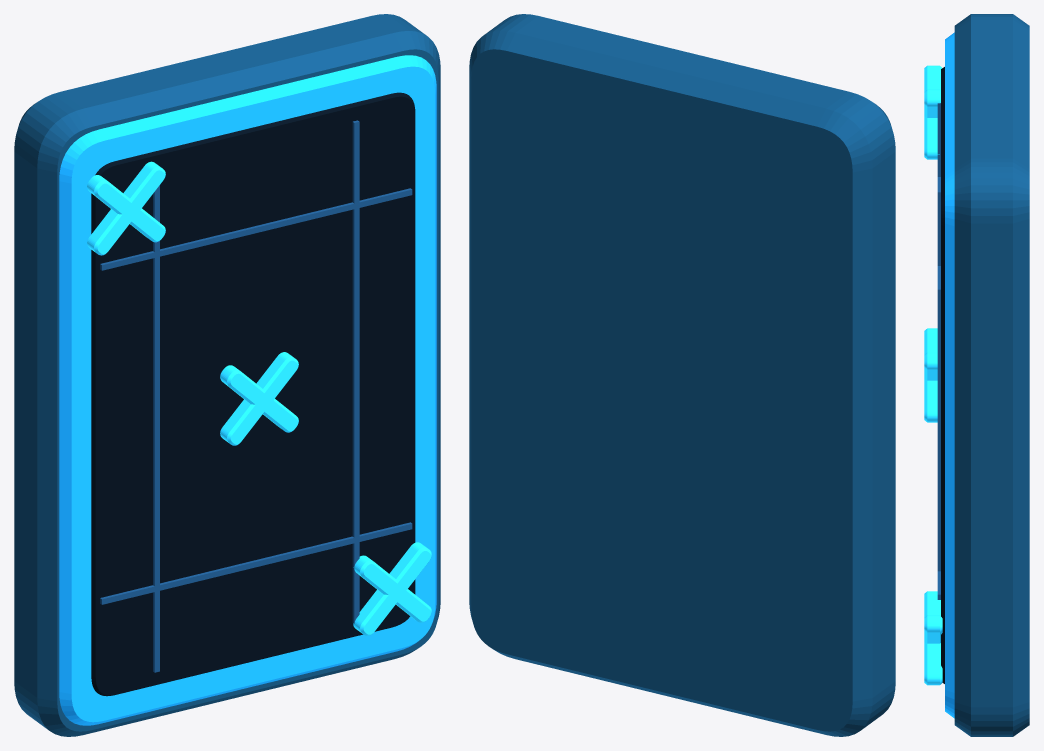
Rendered from board-x-low.glb.
The picture shows the model from 3 angles, left to right: view 1: azimuth 30°, elevation 25°; view 2: azimuth 150°, elevation 25°; view 3: azimuth 270°, elevation 25°; orthographic projection. The views are drawn at different scales.
Visible parts, largest first — view 1: Inset dark game surface, Rounded rectangular beveled backplate, Raised neon perimeter, Vertical grid divider 2, Vertical grid divider 1, Horizontal grid divider 1, Horizontal grid divider 2, Raised X mark 1 arm 1, Raised X mark 2 arm 1, Raised X mark 3 arm 1, Raised X mark 1 arm 2, Raised X mark 2 arm 2 (+1 smaller); view 2: Rounded rectangular beveled backplate; view 3: Rounded rectangular beveled backplate, Raised neon perimeter, Inset dark game surface, Vertical grid divider 2, Raised X mark 3 arm 2, Raised X mark 1 arm 2, Raised X mark 2 arm 2, Raised X mark 3 arm 1, Raised X mark 1 arm 1, Raised X mark 2 arm 1, Vertical grid divider 1.
Part boxes in pixels (x1,y1,x2,y2): Inset dark game surface: (91, 92, 415, 696); Rounded rectangular beveled backplate: (14, 14, 440, 736); Raised neon perimeter: (59, 55, 436, 725); Vertical grid divider 2: (352, 120, 359, 623); Vertical grid divider 1: (153, 185, 159, 672); Horizontal grid divider 1: (100, 188, 412, 270); Horizontal grid divider 2: (100, 522, 412, 604); Raised X mark 1 arm 1: (87, 161, 165, 255); Raised X mark 2 arm 1: (220, 352, 298, 445); Raised X mark 3 arm 1: (353, 542, 431, 635); Raised X mark 1 arm 2: (87, 175, 165, 242); Raised X mark 2 arm 2: (220, 365, 298, 432); Rounded rectangular beveled backplate: (469, 14, 895, 736); Rounded rectangular beveled backplate: (954, 14, 1029, 736); Raised neon perimeter: (945, 32, 954, 718); Inset dark game surface: (941, 67, 944, 683); Vertical grid divider 2: (937, 190, 940, 571); Raised X mark 3 arm 2: (924, 591, 942, 685); Raised X mark 1 arm 2: (924, 65, 942, 159); Raised X mark 2 arm 2: (924, 328, 937, 422); Raised X mark 3 arm 1: (924, 615, 942, 643); Raised X mark 1 arm 1: (924, 89, 940, 117); Raised X mark 2 arm 1: (924, 352, 937, 380); Vertical grid divider 1: (937, 103, 940, 176).
Size of the model in its own units: 0.91 by 1.35 by 0.2245.
